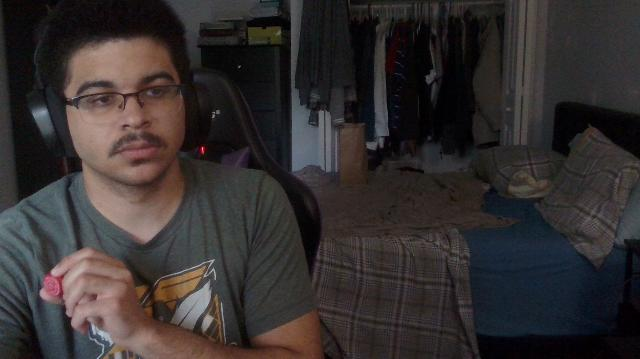cap: (44, 273, 62, 297)
